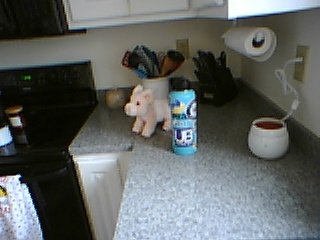piggy: (124, 84, 171, 139)
